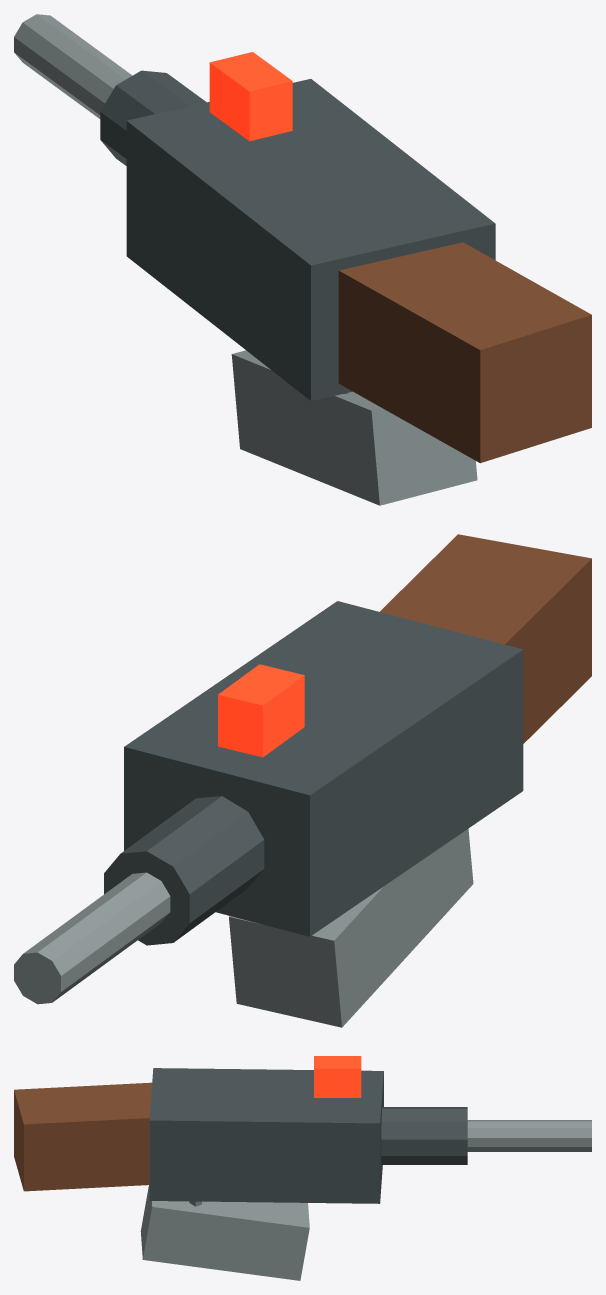
The model's file is smg.glb.
The picture shows the model from 3 angles, top to bottom: view 1: azimuth 30°, elevation 25°; view 2: azimuth 150°, elevation 25°; view 3: azimuth 270°, elevation 25°; orthographic projection. The views are drawn at different scales.
Visible parts, largest first — view 1: SmgReceiver, SmgStock, SmgMagazine, SmgBarrel, SmgSight, SmgBarrelShroud; view 2: SmgReceiver, SmgStock, SmgMagazine, SmgBarrelShroud, SmgBarrel, SmgSight; view 3: SmgReceiver, SmgStock, SmgMagazine, SmgBarrelShroud, SmgBarrel, SmgSight.
Boxes of the visible parts, x1,y1,x2,y2 form: SmgReceiver: (126,79,495,400); SmgStock: (338,242,591,463); SmgMagazine: (231,350,477,505); SmgBarrel: (14,14,132,118); SmgSight: (209,52,292,141); SmgBarrelShroud: (100,70,206,165); SmgReceiver: (124,601,523,936); SmgStock: (380,534,591,743); SmgMagazine: (229,828,473,1027); SmgBarrelShroud: (104,796,264,945); SmgBarrel: (14,872,170,1004); SmgSight: (218,664,304,757); SmgReceiver: (149,1068,383,1203); SmgStock: (14,1082,152,1191); SmgMagazine: (140,1185,309,1280); SmgBarrelShroud: (381,1107,467,1164); SmgBarrel: (467,1120,591,1151); SmgSight: (314,1056,361,1097).
Bounding box in the file's own units: 0.4432 × 0.7567 × 1.95.
